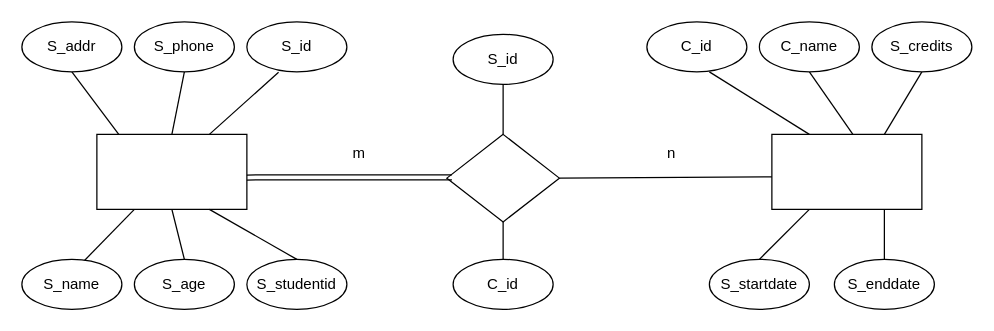
Some shapes in this 994 by 331 pixel diagram are drawn without their labels. Each missing label, with the centre of its shape:
Course: the point at 846,171
Enrolled In: the point at 502,177
Student: the point at 171,171
